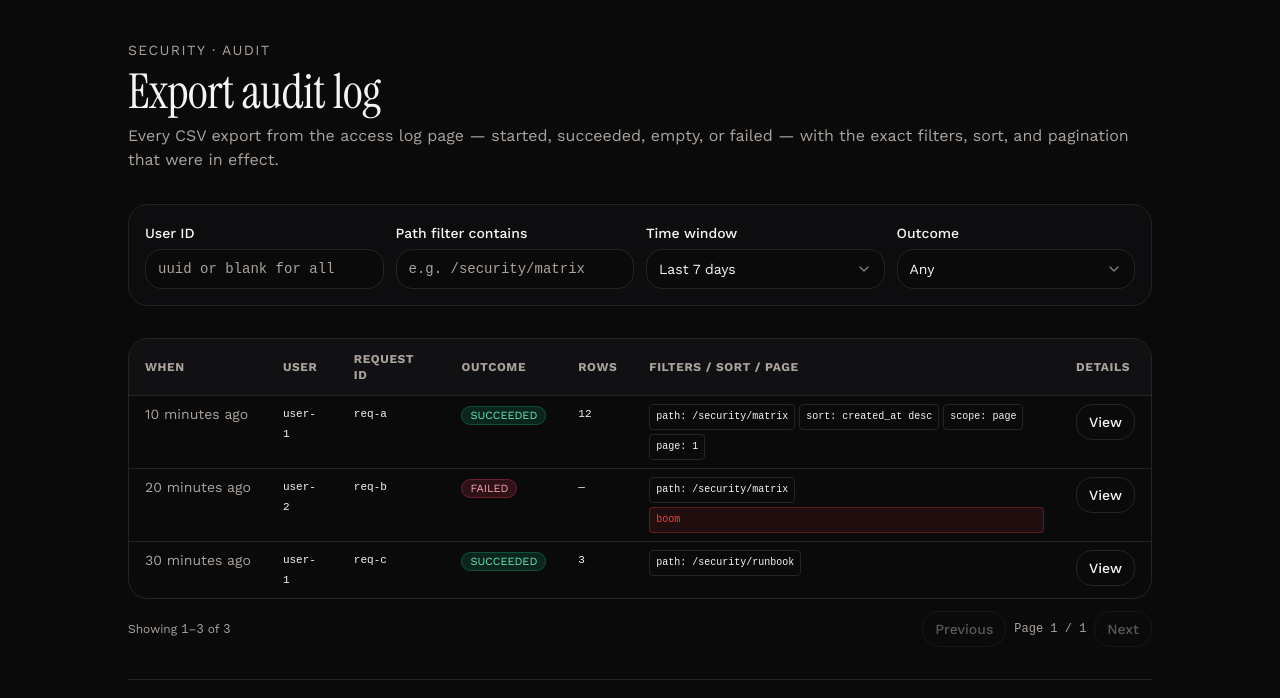
Test: /security/exports filtering › details drawer shows the exact audit payload and request id
Click the button with test id "details-a": (1106, 422) [1076,404,1135,440]
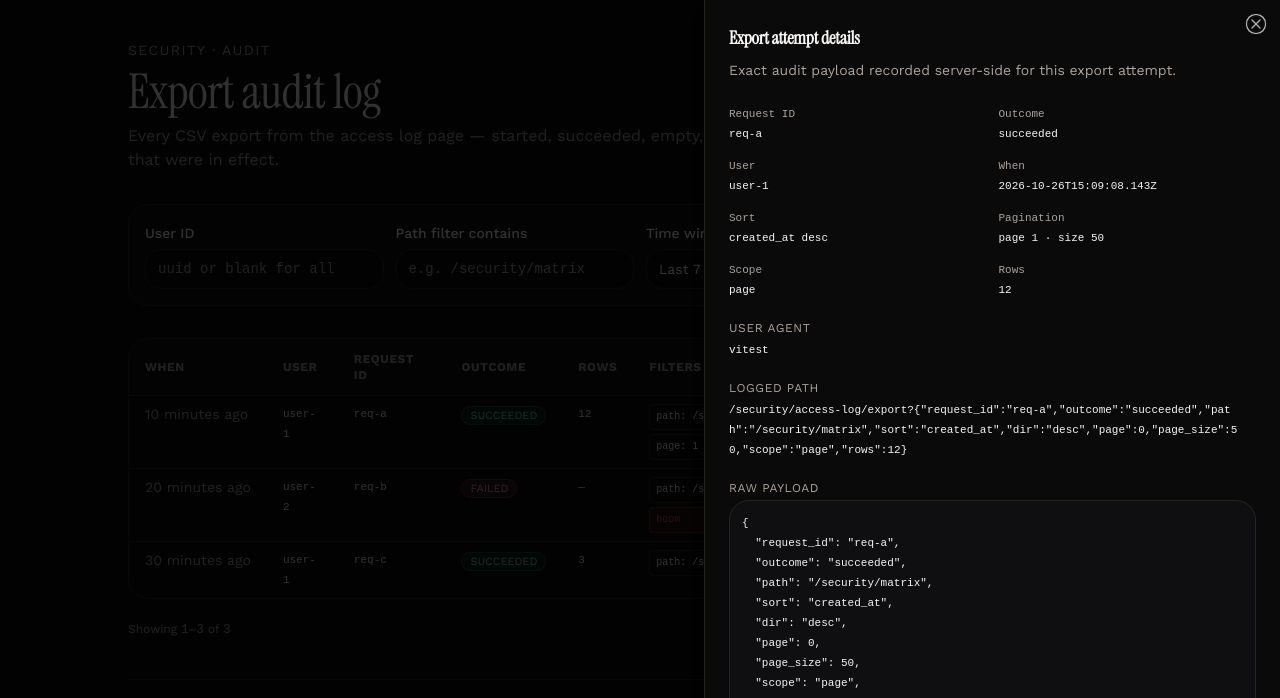
expect the text "req-a" is shown: met, box [729,128,762,140]
expect the text "succeeded" is shown: met, box [998,128,1058,140]
expect the text "created_at desc" is shown: met, box [729,232,828,244]
